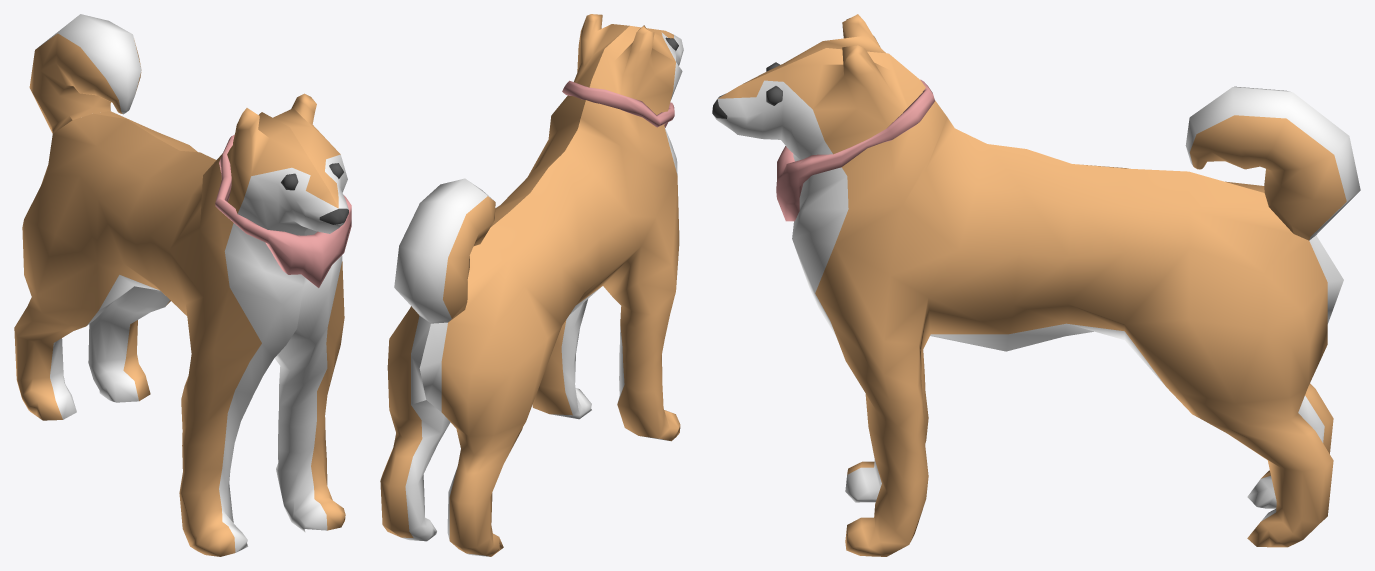
File: Dog.glb
The picture shows the model from 3 angles, left to right: view 1: azimuth 30°, elevation 25°; view 2: azimuth 150°, elevation 25°; view 3: azimuth 270°, elevation 25°; orthographic projection. The views are drawn at different scales.
Visible parts, largest first — view 1: Null.1; view 2: Null.1; view 3: Null.1.
Part boxes in pixels (x1,y1,x2,y2): Null.1: [14, 14, 351, 556]; Null.1: [380, 14, 683, 556]; Null.1: [712, 14, 1360, 556].
Bounding box in the file's own units: 283 × 775 × 932.
